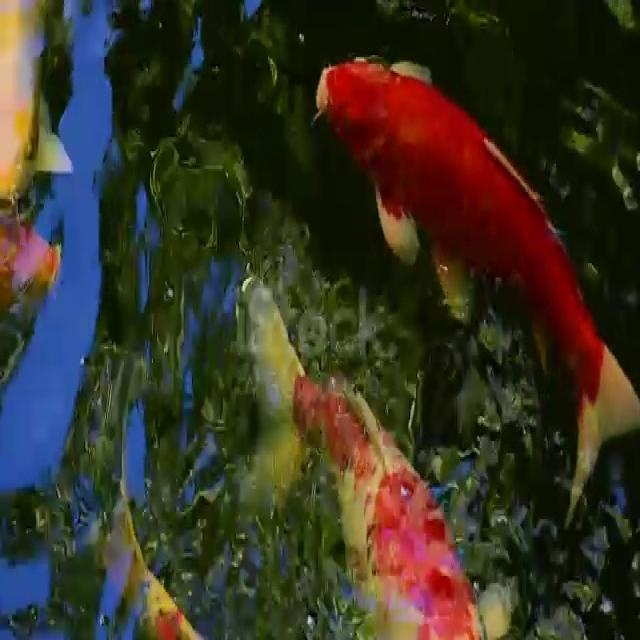fish: (320, 49, 640, 468), (218, 264, 487, 640), (94, 410, 206, 640), (0, 0, 59, 213), (0, 229, 70, 349)
